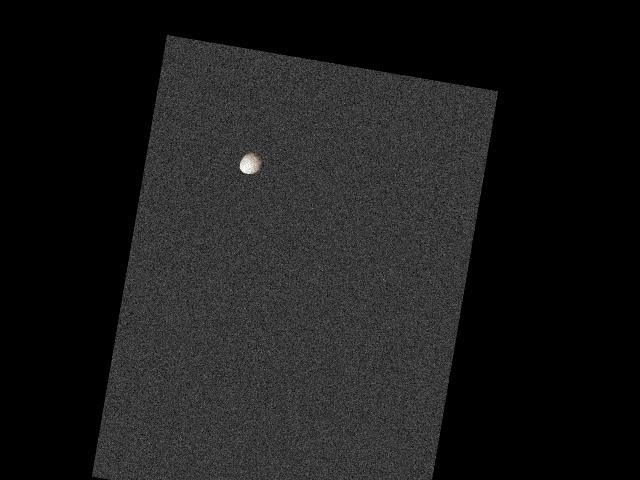egg: (238, 149, 264, 175)
